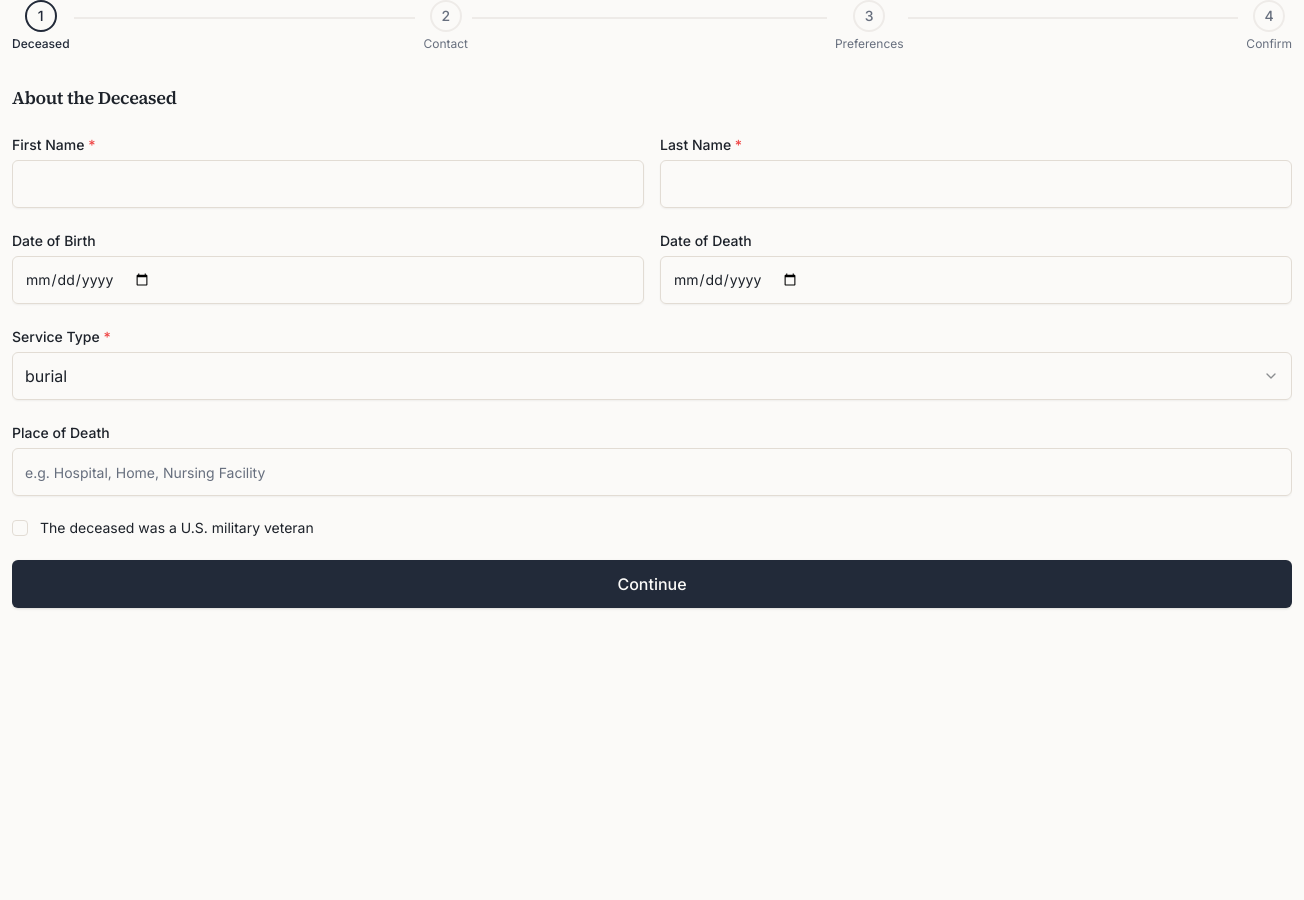
Test: IntakeForm › advances to step 2 when step 1 is filled and Continue clicked
// Fill deceased first name
In the field labelled "First Name *": {"x": 328, "y": 184} x1=12 y1=160 x2=644 y2=208, type "Alice"
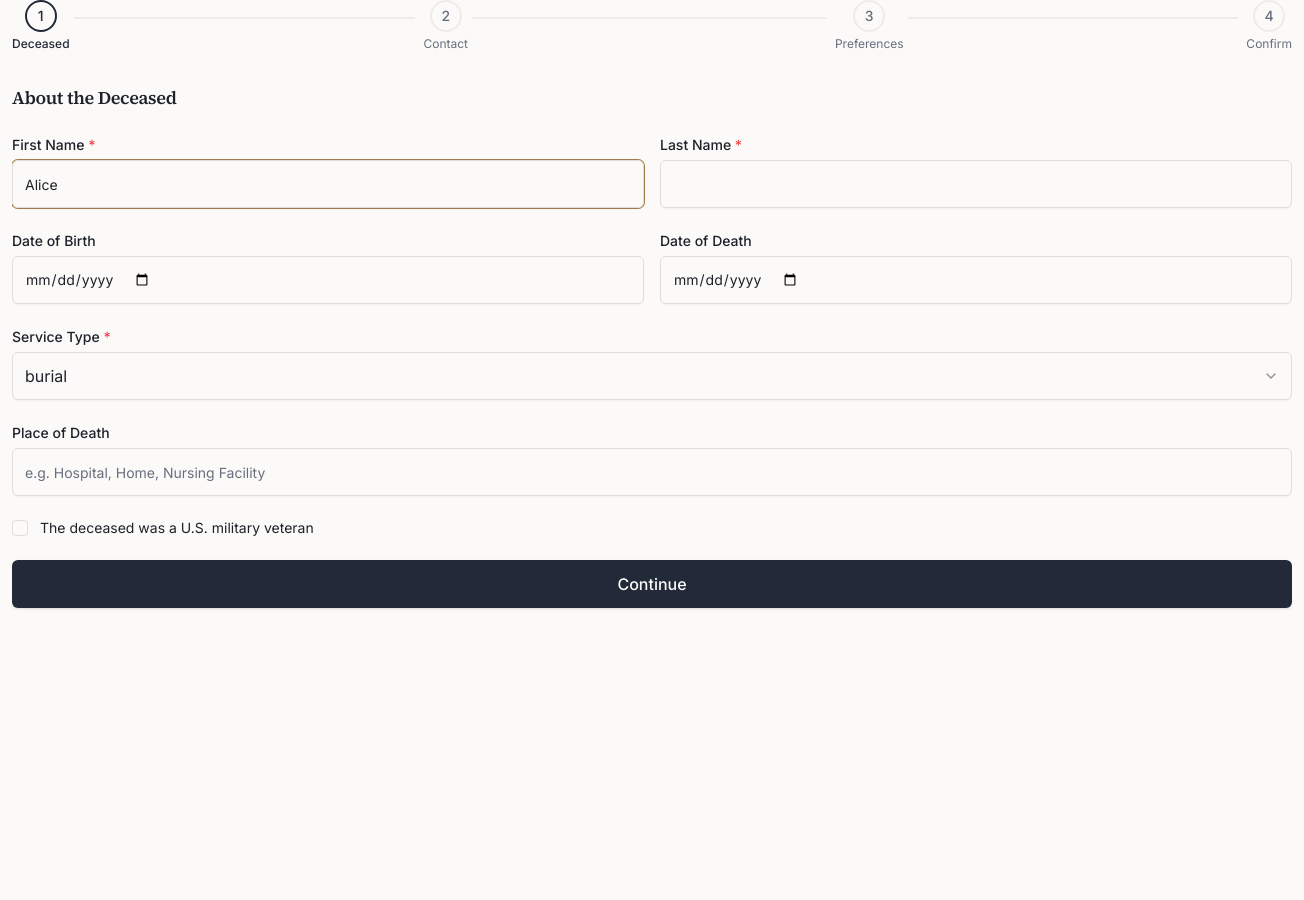
In the field labelled "Last Name *": {"x": 976, "y": 184} x1=660 y1=160 x2=1292 y2=208, type "Smith"
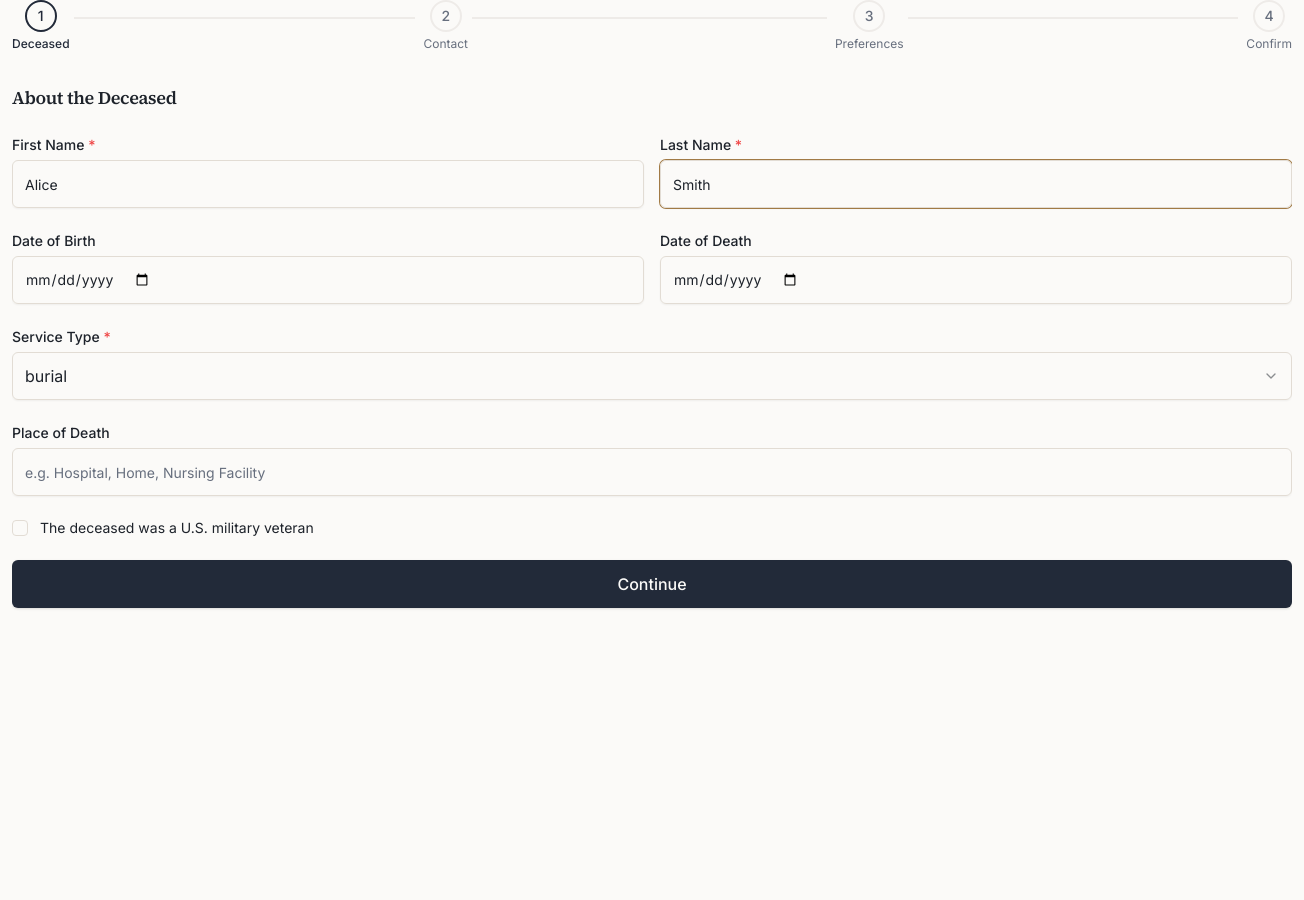
Click the button "Continue": {"x": 652, "y": 584} x1=12 y1=560 x2=1292 y2=608
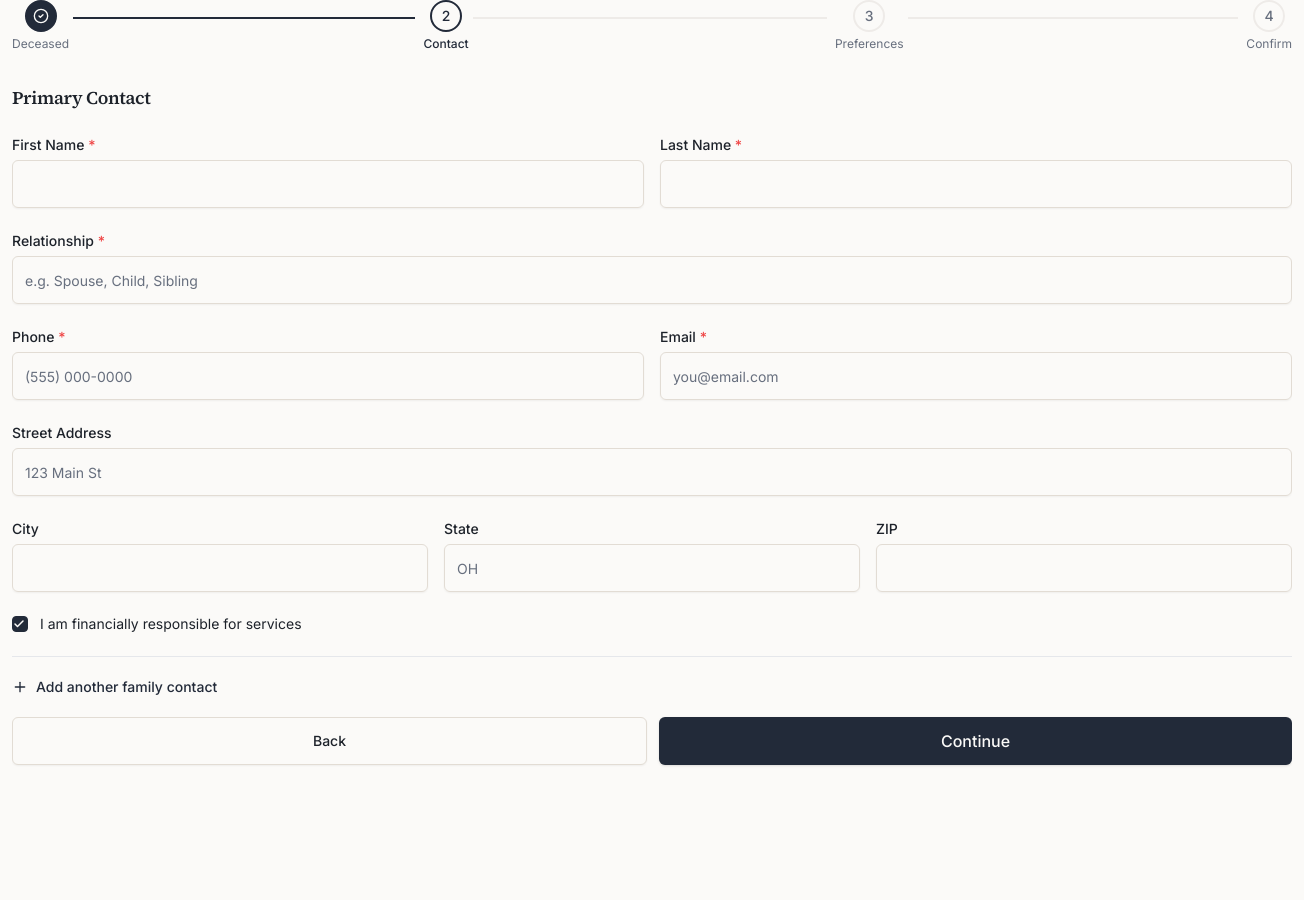
Expected: the heading "Primary Contact" is shown, x1=12 y1=85 x2=150 y2=110
